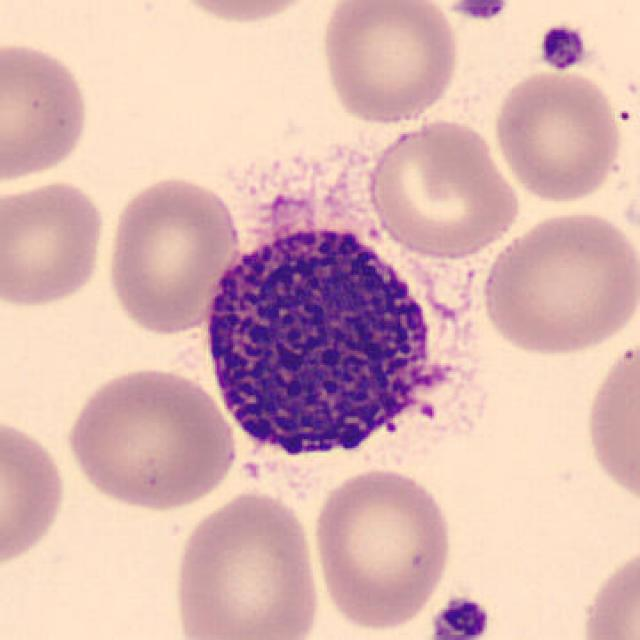Basophil: (192, 164, 498, 481)
Platelets: (428, 592, 494, 640), (537, 19, 588, 74), (446, 0, 512, 23)
RBC: (60, 363, 238, 515), (309, 464, 457, 633), (476, 204, 636, 360), (169, 485, 325, 640), (101, 171, 240, 337), (364, 115, 521, 261), (489, 67, 626, 206), (316, 0, 464, 127), (0, 176, 108, 310), (0, 37, 94, 187), (0, 412, 69, 573), (580, 332, 638, 512), (576, 537, 640, 640), (165, 0, 327, 28)
